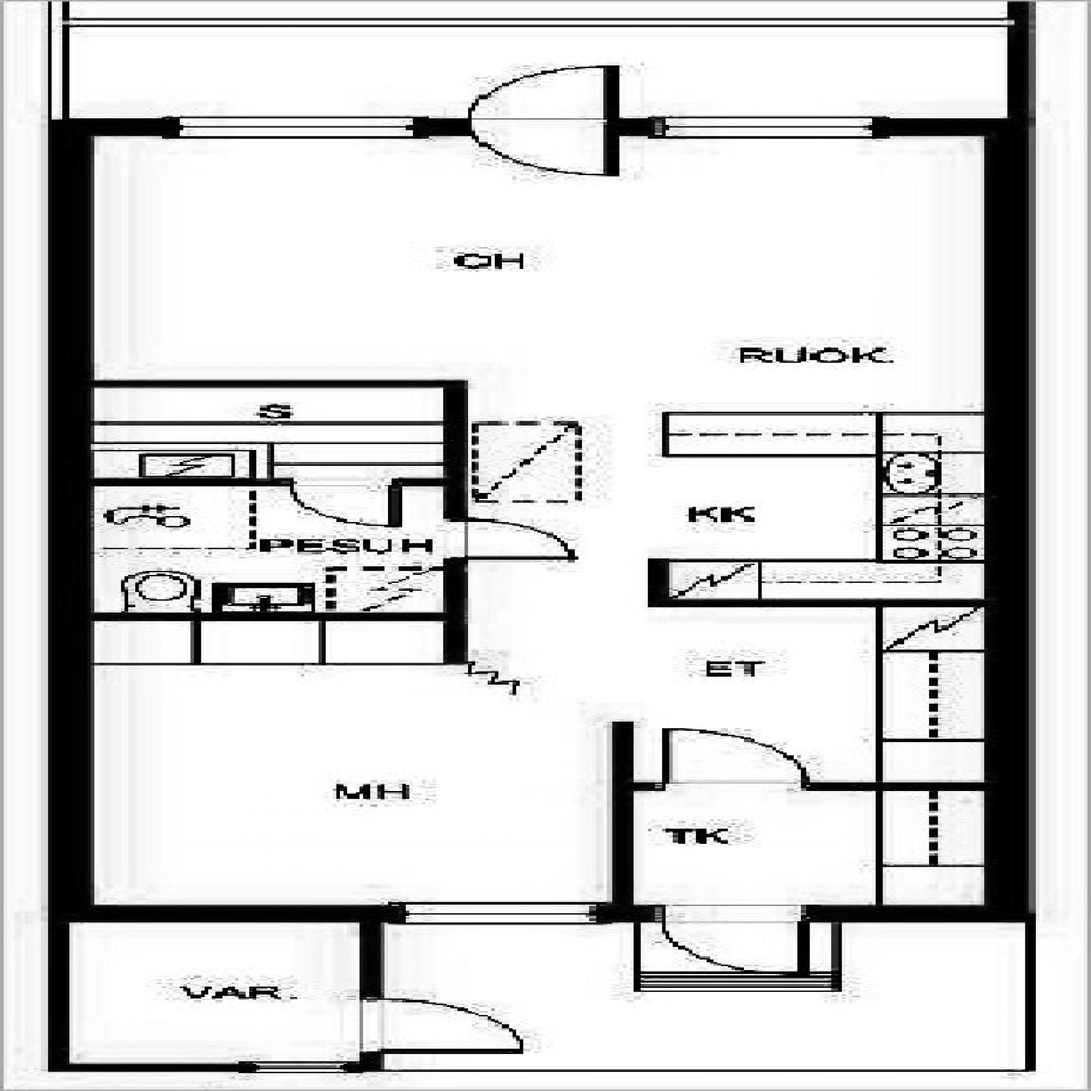wall: (48, 118, 93, 921), (984, 118, 1025, 921), (48, 118, 1025, 135), (441, 658, 628, 726), (360, 905, 1025, 921), (443, 378, 466, 663), (610, 721, 630, 921), (48, 378, 465, 387), (48, 477, 465, 486), (610, 782, 1025, 790), (360, 904, 379, 1071), (48, 921, 68, 1071), (48, 613, 465, 620), (648, 599, 1025, 606), (48, 1064, 377, 1071), (1006, 26, 1025, 118), (648, 560, 669, 606)
